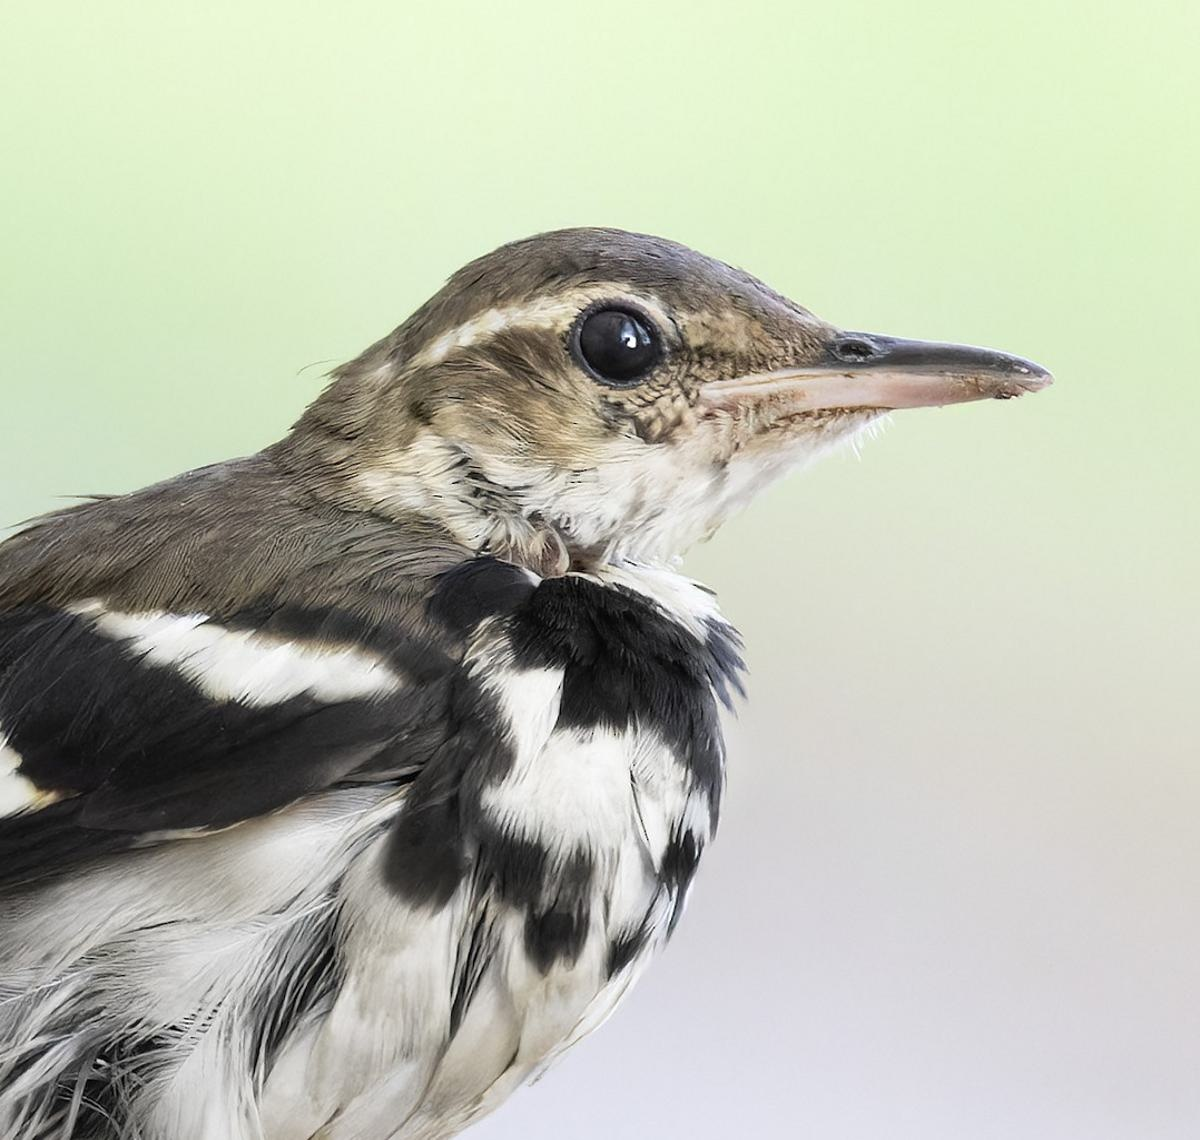wagtail: (22, 244, 1040, 1070)
